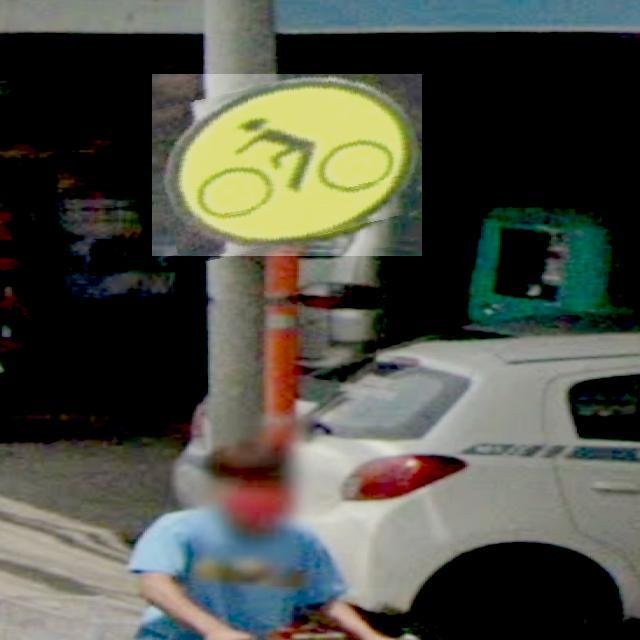bike lane: (152, 74, 422, 256)
